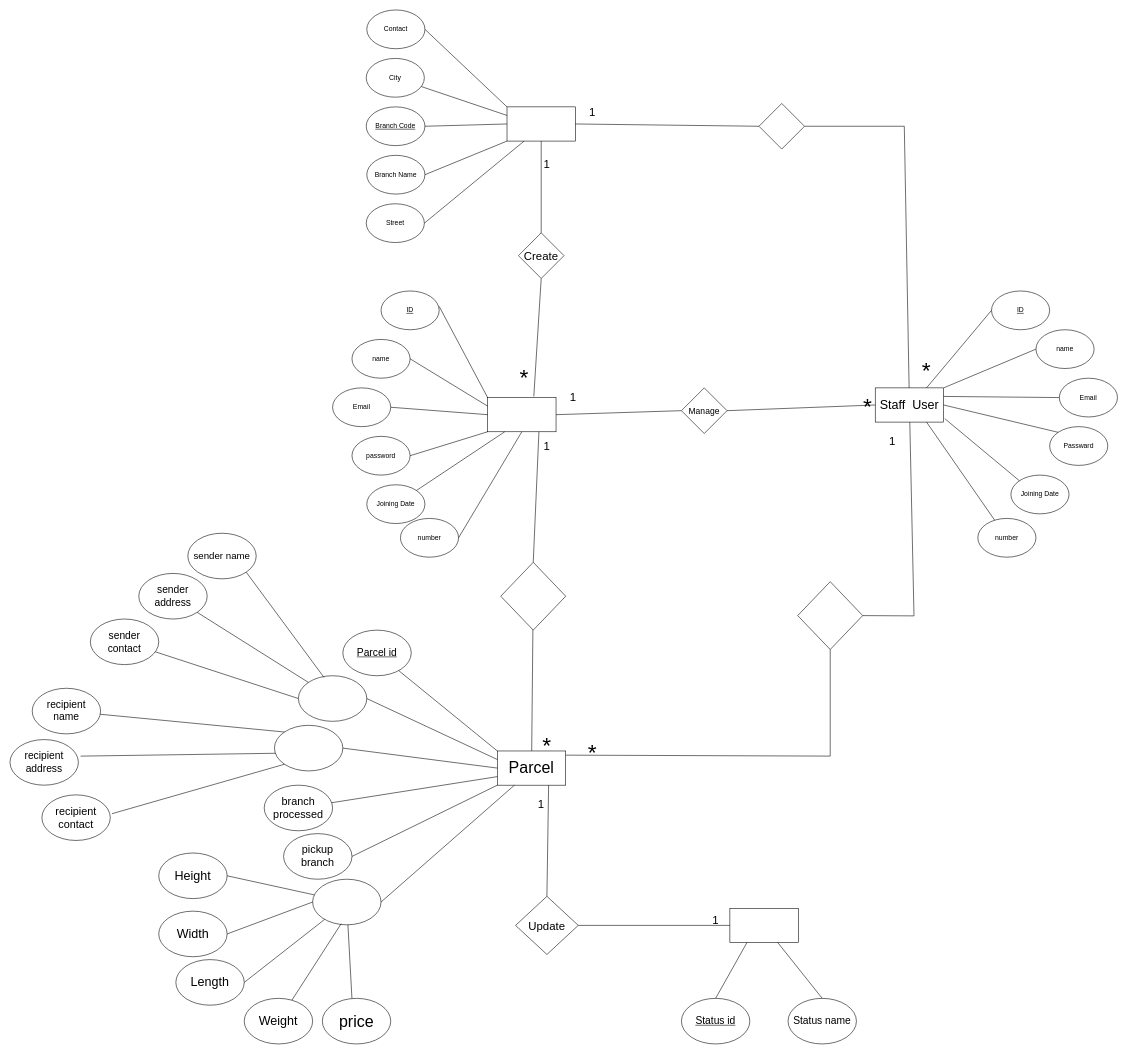
This 1127x1054 diagram has some shape labels left out. The shapes that lost their labels are listed below. From the top down, each one's box as (x1, y1, x2, y2) in pixels, then its label:
(506, 106, 575, 141): Branch
(758, 103, 805, 149): Have
(487, 397, 556, 432): Admin
(500, 562, 566, 630): Make
(797, 581, 863, 650): Store
(298, 675, 367, 721): sender information
(274, 725, 343, 771): receiver information
(312, 879, 381, 925): parcel information
(729, 908, 798, 942): Status
